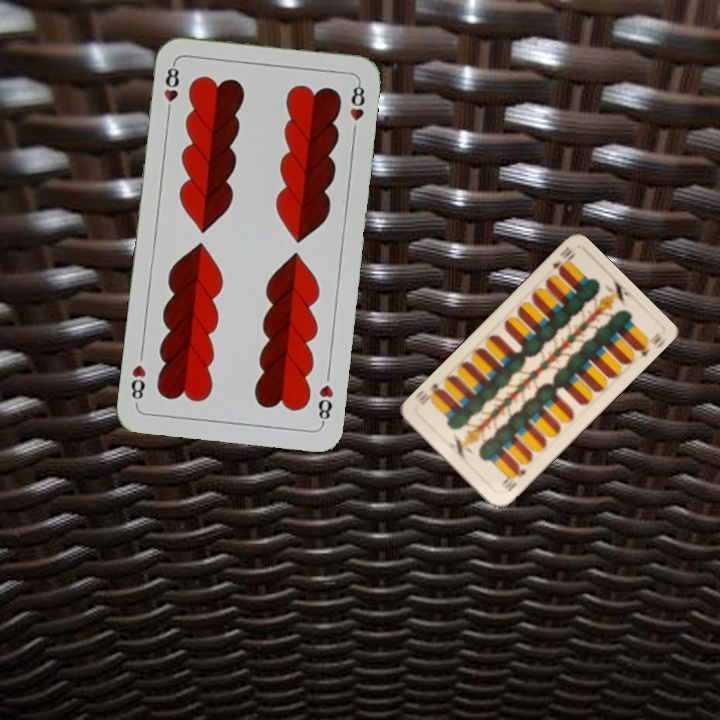E10: (548, 242, 578, 277), (500, 462, 529, 495)
H8: (159, 59, 182, 118), (314, 381, 336, 427)
